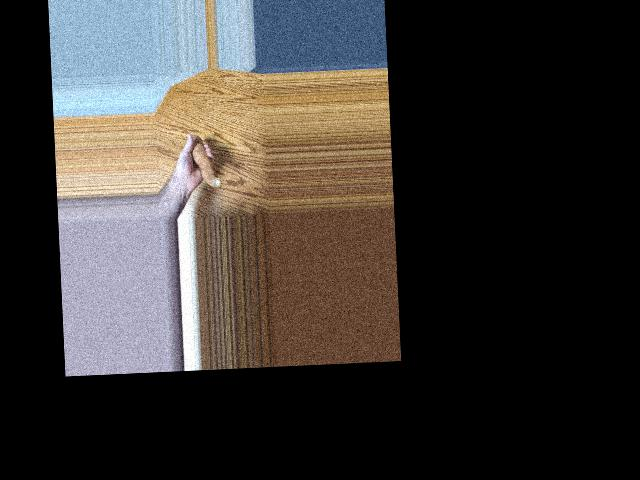sweet_potato: (188, 135, 219, 190)
